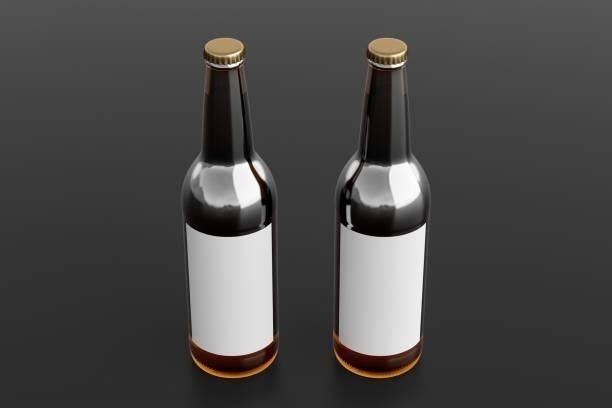bottle-glass: (178, 34, 283, 382), (329, 34, 434, 381)
